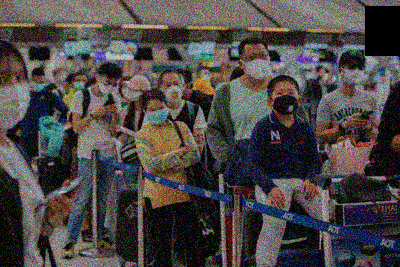with_mask: (1, 69, 33, 130), (246, 50, 271, 82), (273, 87, 300, 116), (344, 60, 366, 88), (146, 104, 169, 126), (163, 80, 184, 103), (98, 78, 119, 96), (124, 86, 142, 104), (31, 78, 46, 93), (72, 78, 88, 91), (200, 70, 211, 82), (58, 72, 66, 82)
